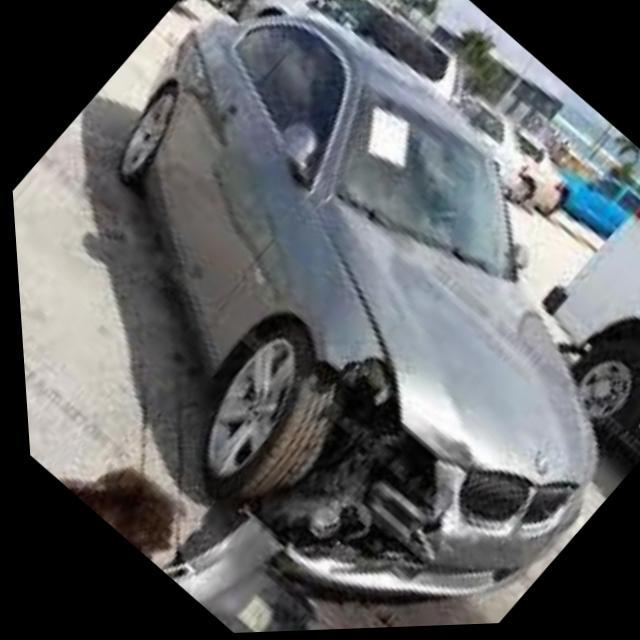no part: (156, 346, 480, 610)
